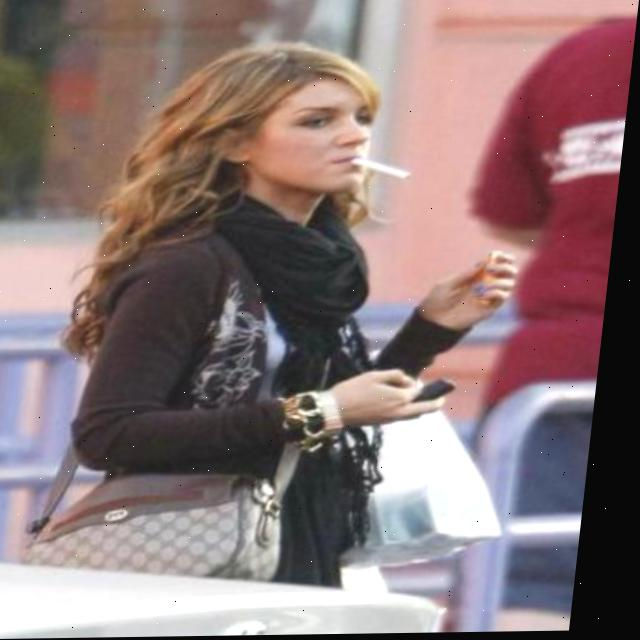cigarette: (350, 155, 419, 187)
